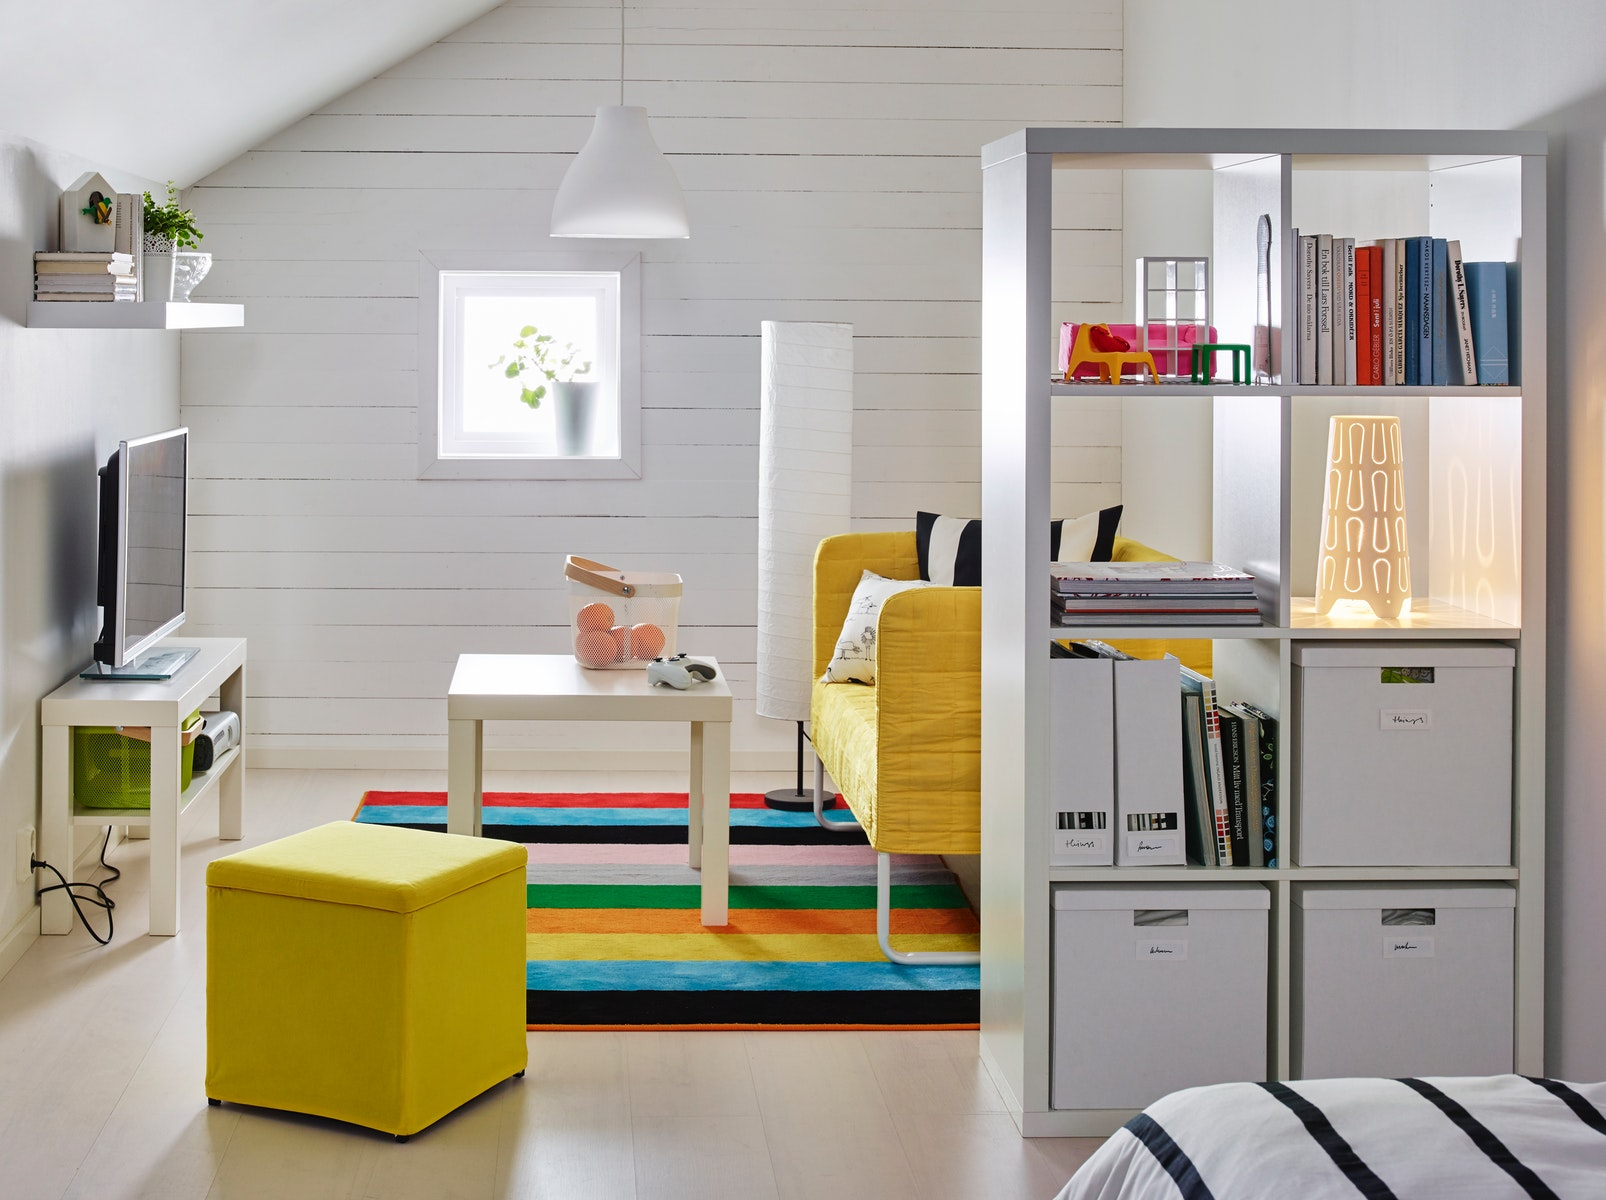buku: (1295, 226, 1527, 398), (1182, 688, 1283, 870), (1048, 563, 1274, 638), (34, 242, 134, 303)
kursi: (192, 813, 540, 1138)
lampu: (532, 5, 706, 252)
meja: (444, 642, 753, 934)
sova: (803, 508, 987, 971)
tanaman: (505, 320, 610, 456), (142, 182, 207, 300)
tv: (90, 418, 195, 671)
